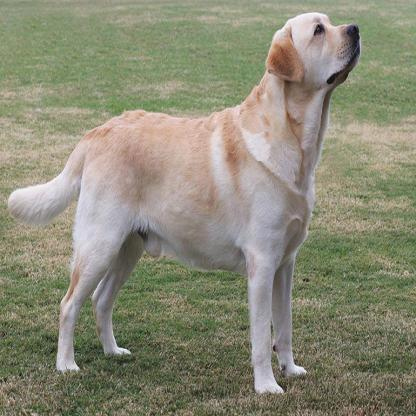dog: (9, 13, 362, 396)
